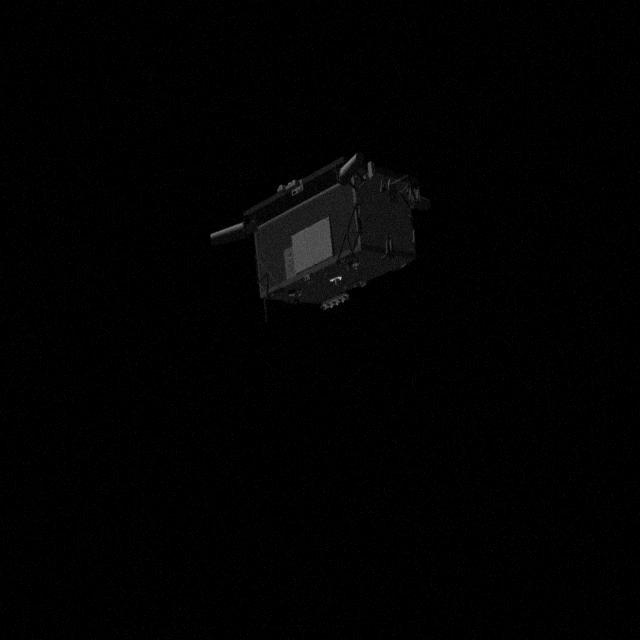medium_debris: (208, 144, 424, 338)
